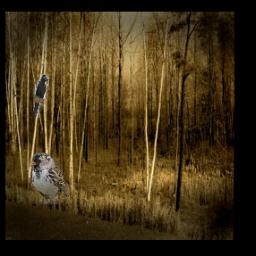Crow: (33, 75, 49, 119)
Sparrow: (30, 153, 68, 204)
